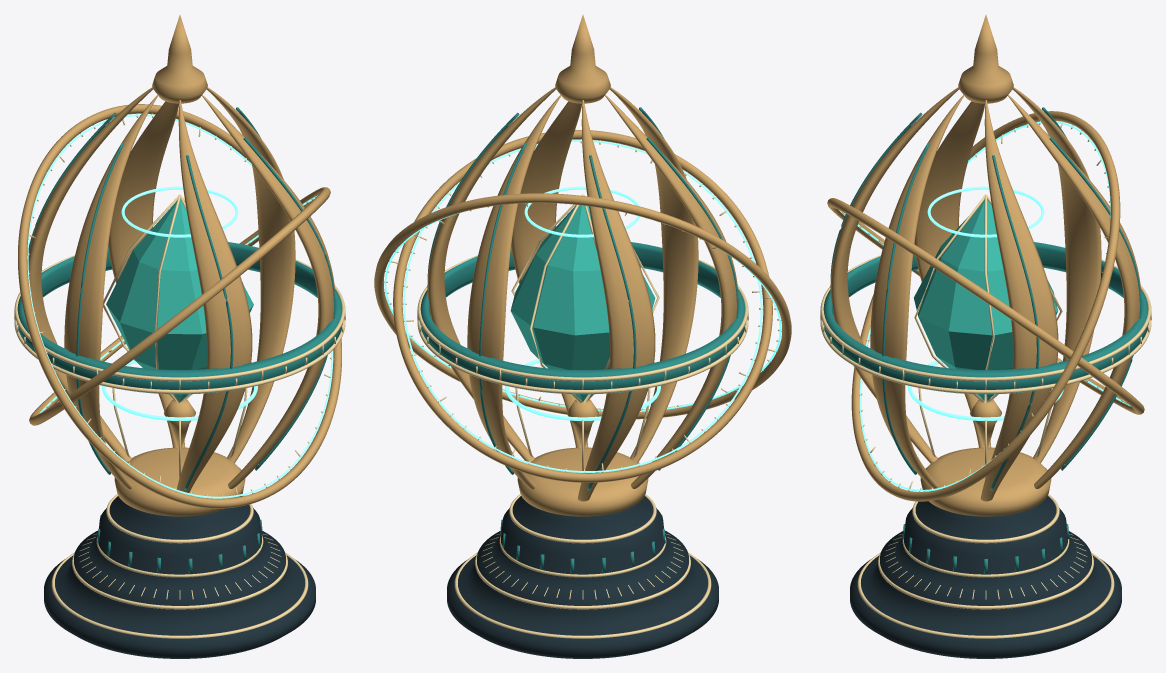
File: aether-reliquary.glb
3 renders of one model, left to right at view 1: azimuth 30°, elevation 25°; view 2: azimuth 150°, elevation 25°; view 3: azimuth 270°, elevation 25°, orthographic.
Visible parts, largest first — view 1: Batch | Champagne gold | brushed edges, Batch | Midnight ceramic, Batch | Verdigris enamel, Batch | Faceted aquamarine, Batch | Pale gold | inlaid tracery, Batch | Aether phosphor; view 2: Batch | Champagne gold | brushed edges, Batch | Midnight ceramic, Batch | Verdigris enamel, Batch | Faceted aquamarine, Batch | Pale gold | inlaid tracery, Batch | Aether phosphor; view 3: Batch | Champagne gold | brushed edges, Batch | Midnight ceramic, Batch | Verdigris enamel, Batch | Faceted aquamarine, Batch | Pale gold | inlaid tracery, Batch | Aether phosphor.
Boxes of the visible parts, bbox=[...] form: Batch | Champagne gold | brushed edges: bbox=[18, 15, 341, 516]; Batch | Midnight ceramic: bbox=[44, 496, 315, 658]; Batch | Verdigris enamel: bbox=[17, 107, 342, 573]; Batch | Faceted aquamarine: bbox=[106, 199, 253, 401]; Batch | Pale gold | inlaid tracery: bbox=[14, 113, 345, 638]; Batch | Aether phosphor: bbox=[27, 114, 333, 498]; Batch | Champagne gold | brushed edges: bbox=[374, 15, 791, 516]; Batch | Midnight ceramic: bbox=[447, 496, 718, 658]; Batch | Verdigris enamel: bbox=[420, 107, 745, 573]; Batch | Faceted aquamarine: bbox=[510, 205, 655, 401]; Batch | Pale gold | inlaid tracery: bbox=[383, 139, 781, 638]; Batch | Aether phosphor: bbox=[384, 139, 781, 472]; Batch | Champagne gold | brushed edges: bbox=[827, 15, 1144, 516]; Batch | Midnight ceramic: bbox=[850, 496, 1121, 658]; Batch | Verdigris enamel: bbox=[823, 107, 1148, 573]; Batch | Faceted aquamarine: bbox=[914, 200, 1057, 400]; Batch | Pale gold | inlaid tracery: bbox=[820, 121, 1151, 638]; Batch | Aether phosphor: bbox=[839, 121, 1130, 491].
Size of the model in its own units: 3.76 by 6.09 by 3.09.
